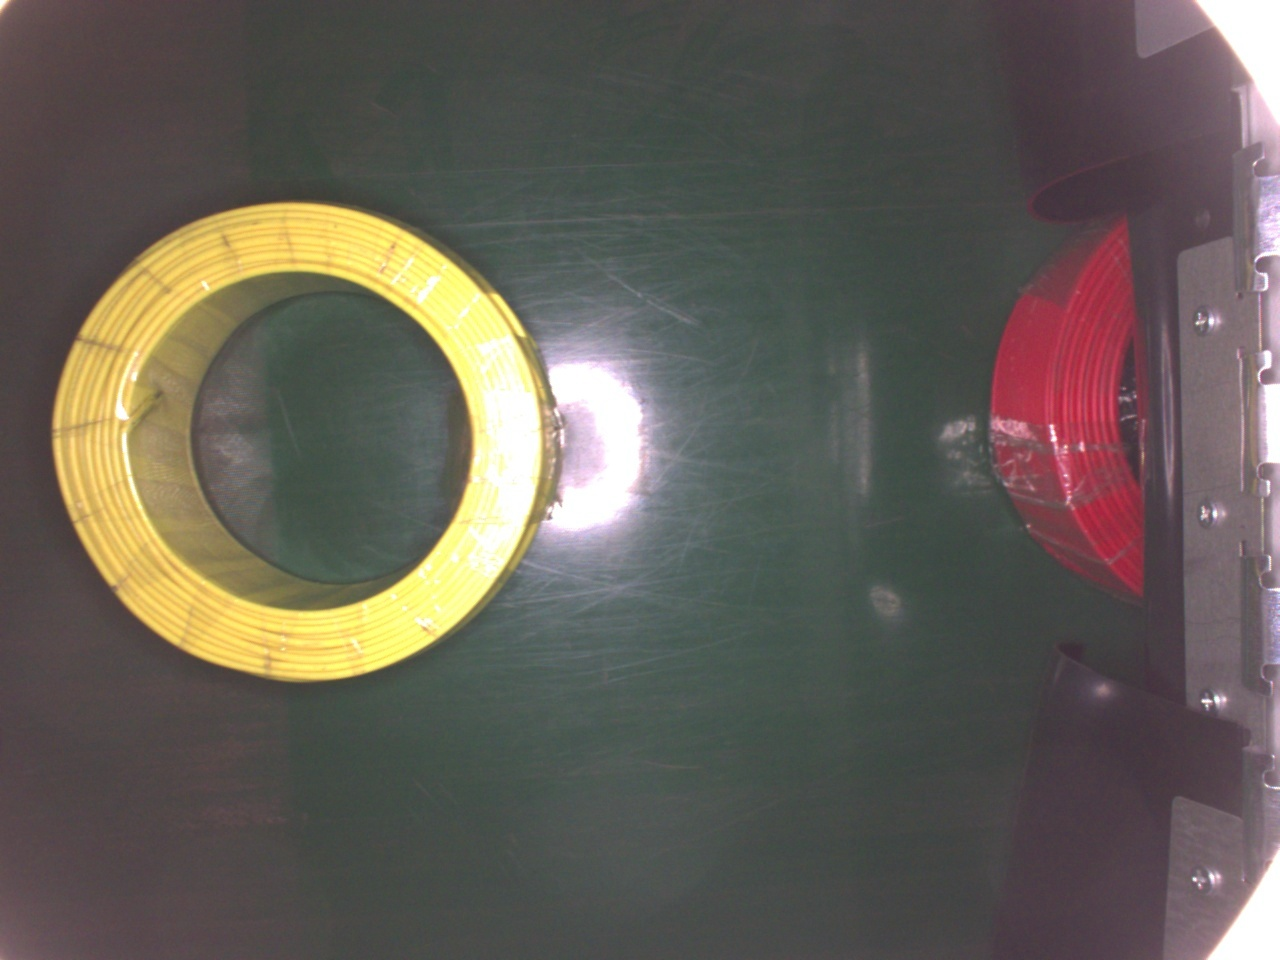red: (984, 209, 1149, 613)
yellow: (49, 199, 569, 686)
